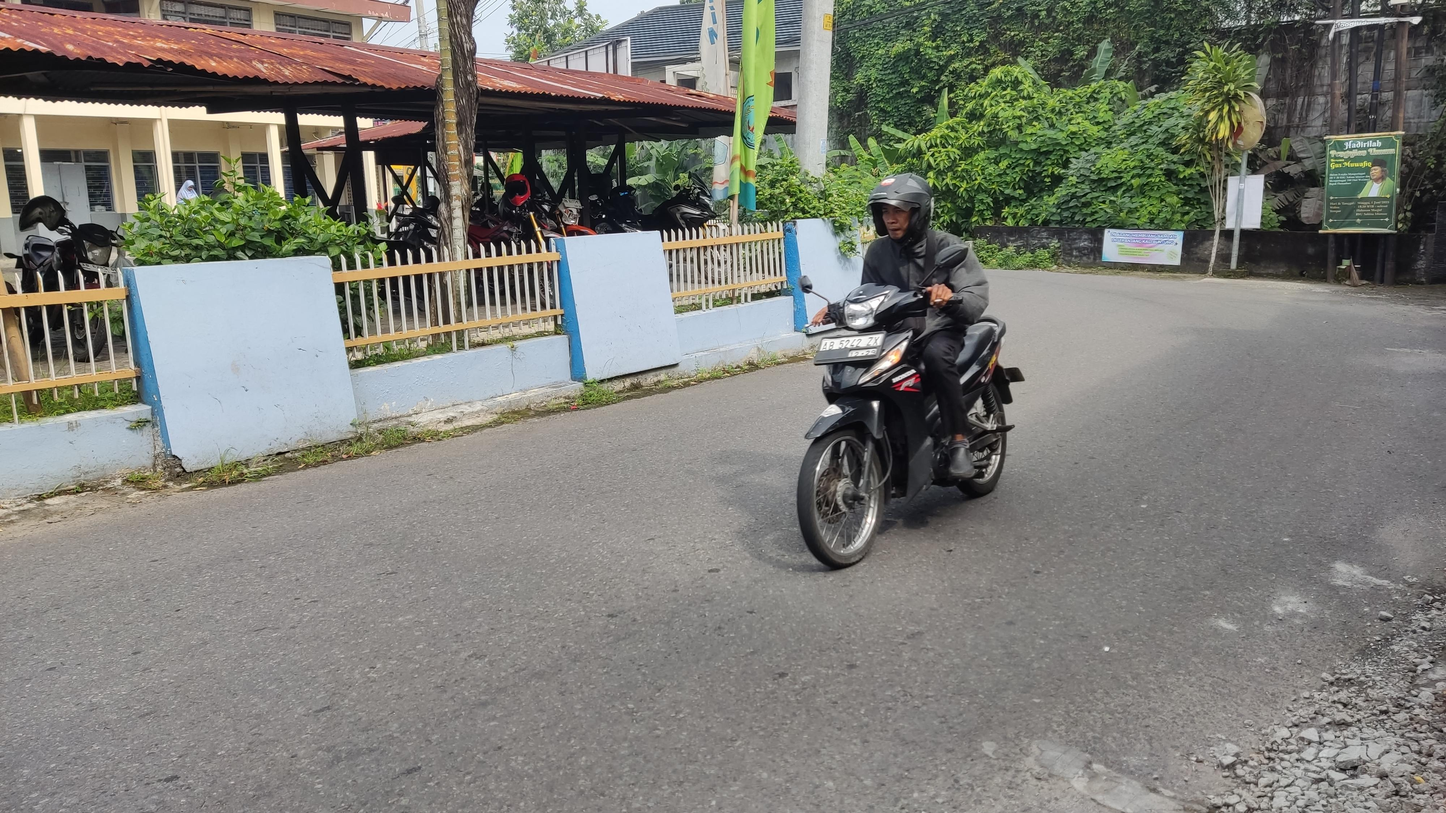helm: (863, 173, 937, 246)
riding: (795, 172, 1027, 571)
